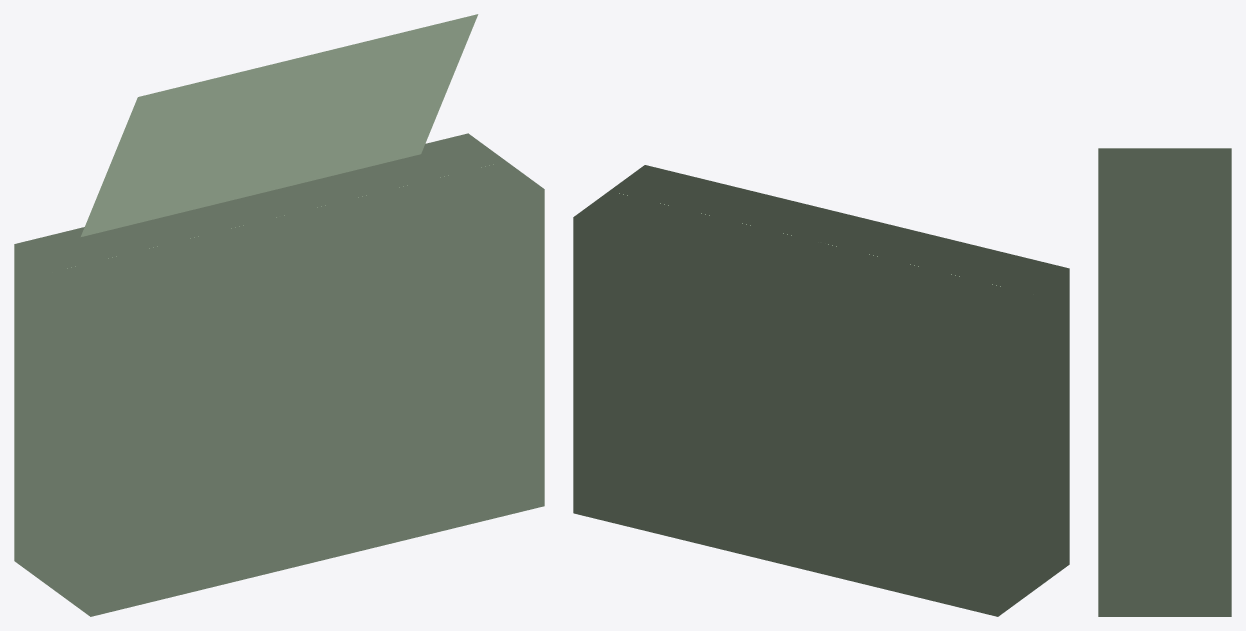
File: trap_t3_directional_mine.glb
The picture shows the model from 3 angles, left to right: view 1: azimuth 30°, elevation 25°; view 2: azimuth 150°, elevation 25°; view 3: azimuth 270°, elevation 25°; orthographic projection. The views are drawn at different scales.
Parts seen in each view (by area): view 1: trap_t3_directional_mine; view 2: trap_t3_directional_mine; view 3: trap_t3_directional_mine.
Boxes of the visible parts, x1=… form: trap_t3_directional_mine: x1=14, y1=14, x2=544, y2=616; trap_t3_directional_mine: x1=573, y1=165, x2=1069, y2=616; trap_t3_directional_mine: x1=1098, y1=148, x2=1231, y2=616.
Bounding box in the file's own units: 0.24 × 0.252 × 0.07.
